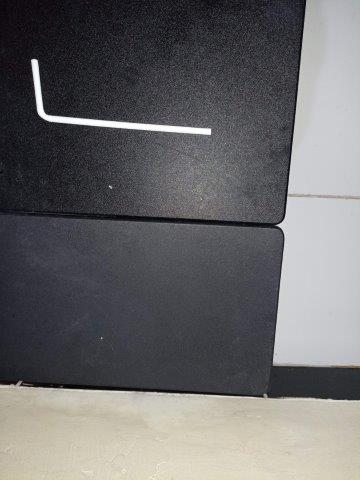sedotan: (30, 58, 211, 135)
